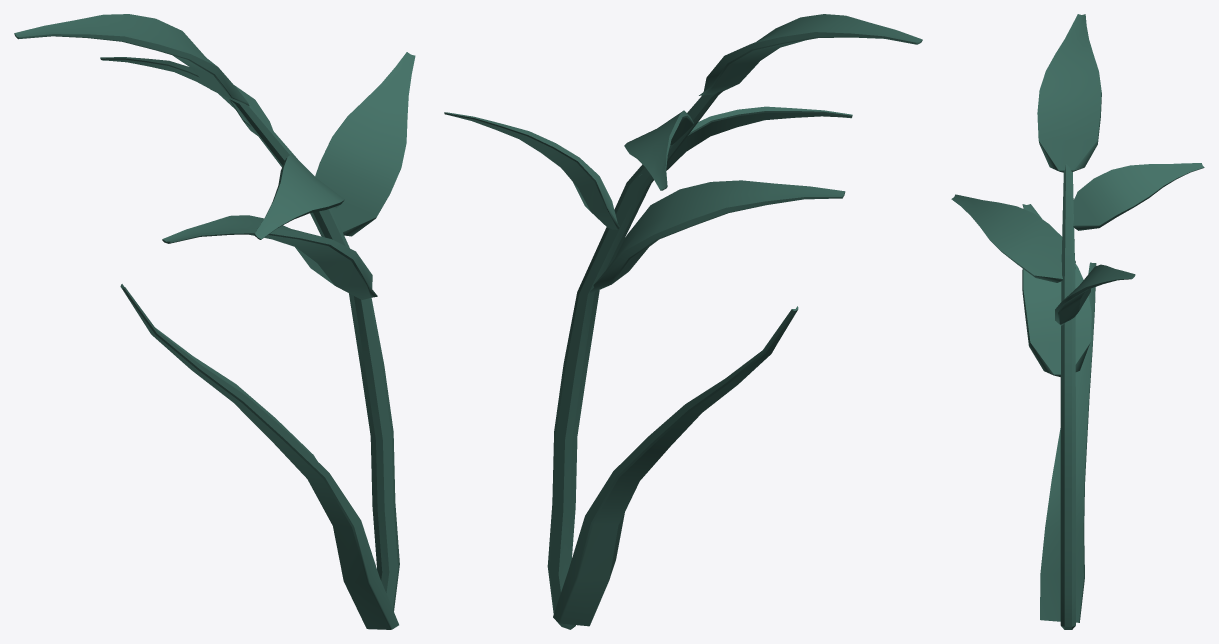
The model's file is GrassFlower2.fbx.
3 renders of one model, left to right at view 1: azimuth 30°, elevation 25°; view 2: azimuth 150°, elevation 25°; view 3: azimuth 270°, elevation 25°, orthographic. The views are drawn at different scales.
Parts seen in each view (by area): view 1: pCube108; view 2: pCube108; view 3: pCube108.
Boxes of the visible parts, x1,y1,x2,y2 form: pCube108: (14,14,415,629); pCube108: (444,14,922,629); pCube108: (951,14,1204,629).
Size of the model in its own units: 0.1294 by 0.1908 by 0.0896.
